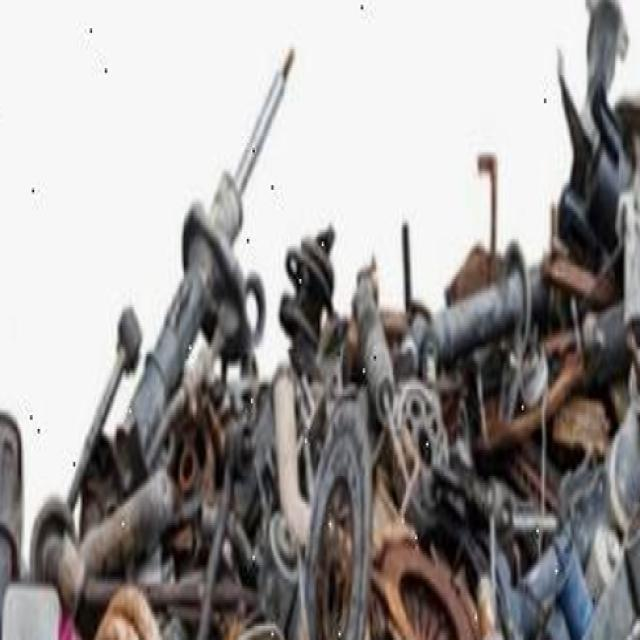shock absorber: (111, 48, 296, 493), (353, 280, 410, 495)
